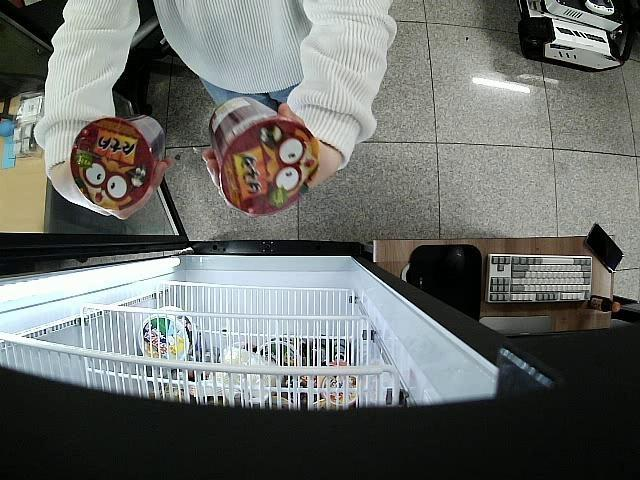06_nuguri_S: (210, 96, 319, 215), (68, 118, 164, 212)
